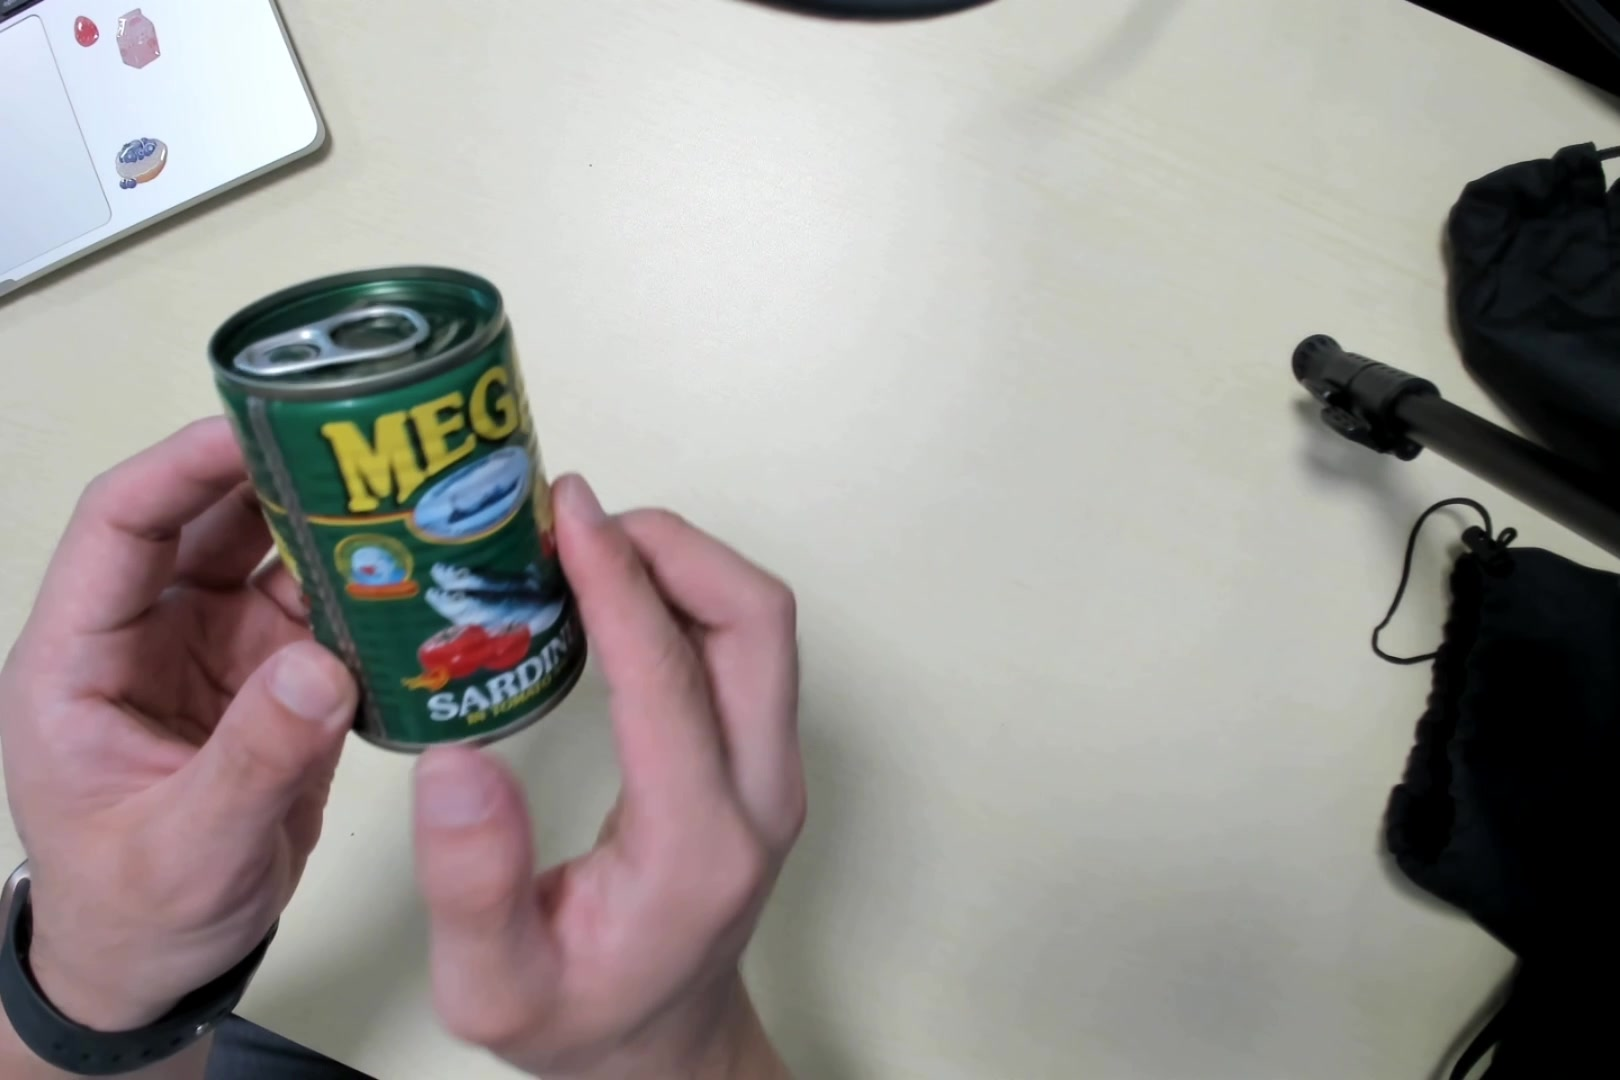CannedSardingMackerel_100-199g_NonHalal_NonHealthy: (218, 260, 589, 757)
